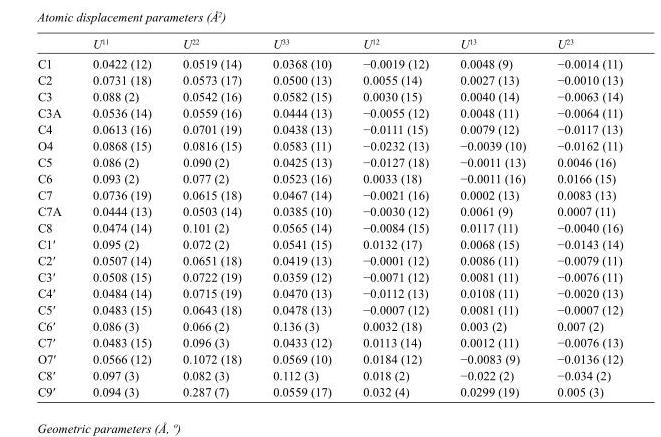table: (36, 36, 622, 398)
table column: (346, 36, 443, 398), (443, 36, 540, 398), (76, 36, 166, 398), (166, 36, 256, 398), (256, 36, 346, 398), (540, 36, 622, 398), (36, 36, 76, 398)
table column header: (36, 36, 622, 53)
table row: (36, 53, 622, 71), (36, 36, 622, 53), (36, 71, 622, 88), (36, 120, 622, 137), (36, 153, 622, 170), (36, 186, 622, 203), (36, 235, 622, 252), (36, 268, 622, 285), (36, 317, 622, 334), (36, 350, 622, 367), (36, 88, 622, 104), (36, 104, 622, 120), (36, 137, 622, 153), (36, 170, 622, 186), (36, 203, 622, 219), (36, 219, 622, 235), (36, 252, 622, 268), (36, 285, 622, 301), (36, 301, 622, 317), (36, 334, 622, 350), (36, 367, 622, 383), (36, 383, 622, 398)
